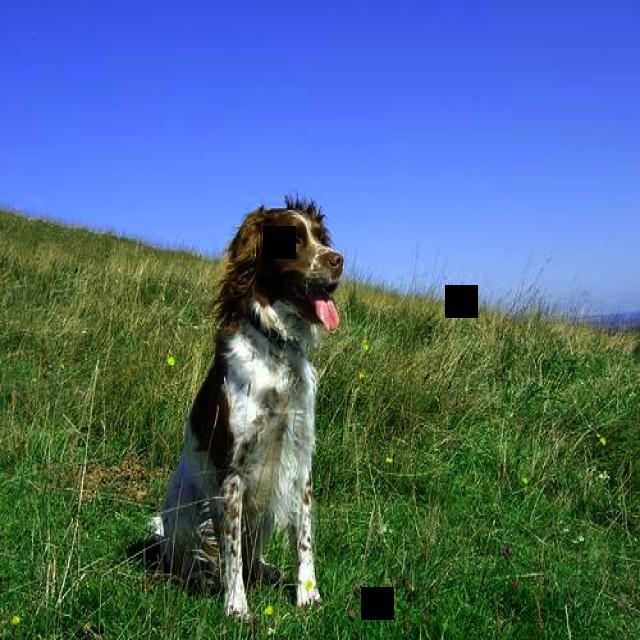adult_dog: (126, 195, 349, 617)
